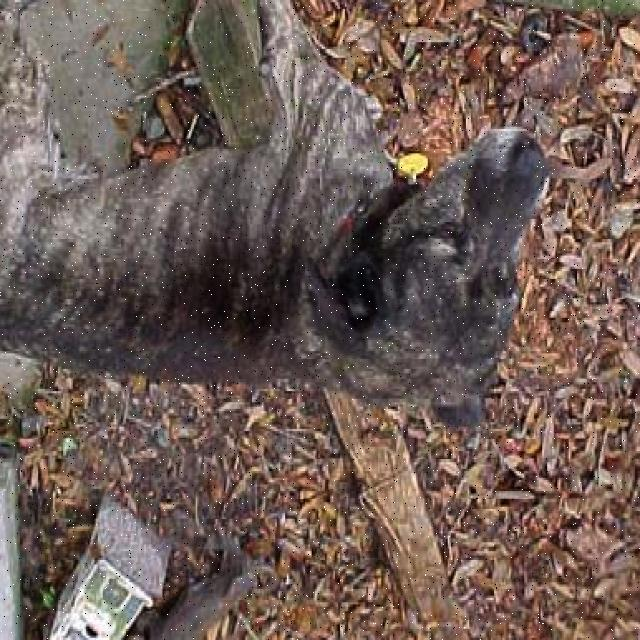Dog: (325, 68, 572, 446)
